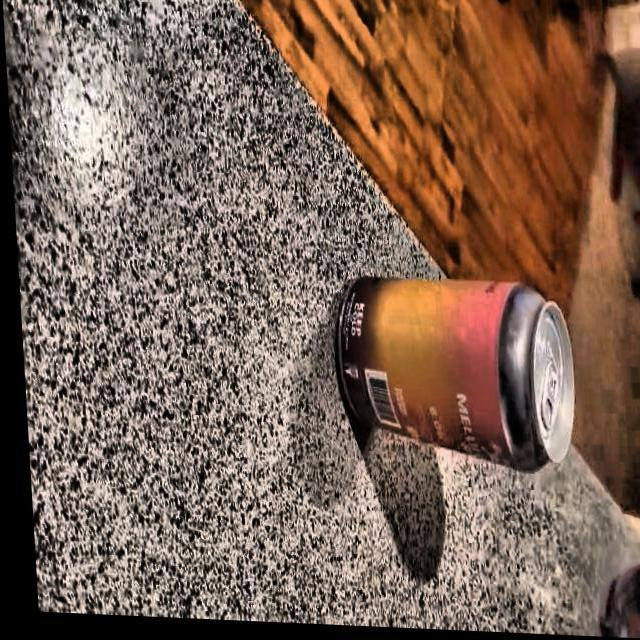litter: (310, 268, 585, 484)
